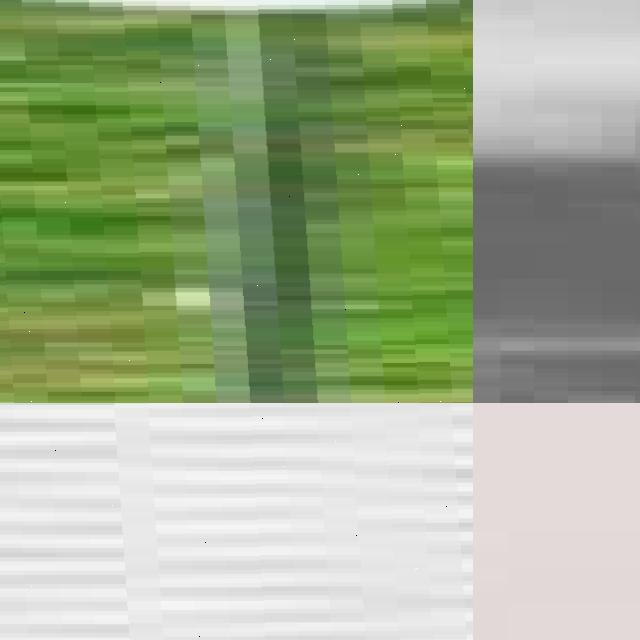street light: (0, 0, 473, 403), (0, 403, 473, 640)
